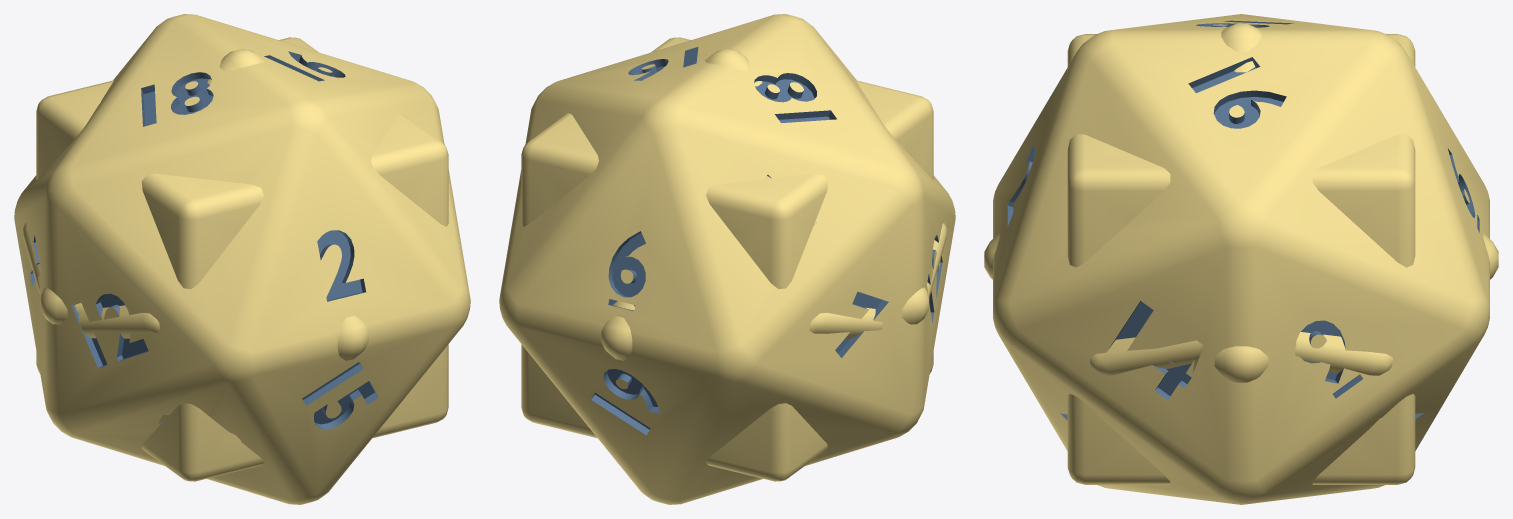
File: dice.glb
3 renders of one model, left to right at view 1: azimuth 30°, elevation 25°; view 2: azimuth 150°, elevation 25°; view 3: azimuth 270°, elevation 25°, orthographic. The views are drawn at different scales.
Parts seen in each view (by area): view 1: d20, d6, d8, d10; view 2: d20, d6, d8, d10; view 3: d20, d6, d10, d8.
Boxes of the visible parts, x1=… form: d20: x1=14, y1=14, x2=470, y2=504; d6: x1=36, y1=37, x2=448, y2=481; d8: x1=40, y1=48, x2=368, y2=360; d10: x1=22, y1=223, x2=160, y2=338; d20: x1=499, y1=14, x2=955, y2=504; d6: x1=521, y1=37, x2=933, y2=481; d8: x1=601, y1=48, x2=929, y2=360; d10: x1=809, y1=223, x2=947, y2=338; d20: x1=993, y1=14, x2=1489, y2=504; d6: x1=1067, y1=34, x2=1415, y2=484; d10: x1=1090, y1=332, x2=1392, y2=377; d8: x1=984, y1=24, x2=1498, y2=382.
Bounding box in the file's own units: 2 × 2 × 2.
